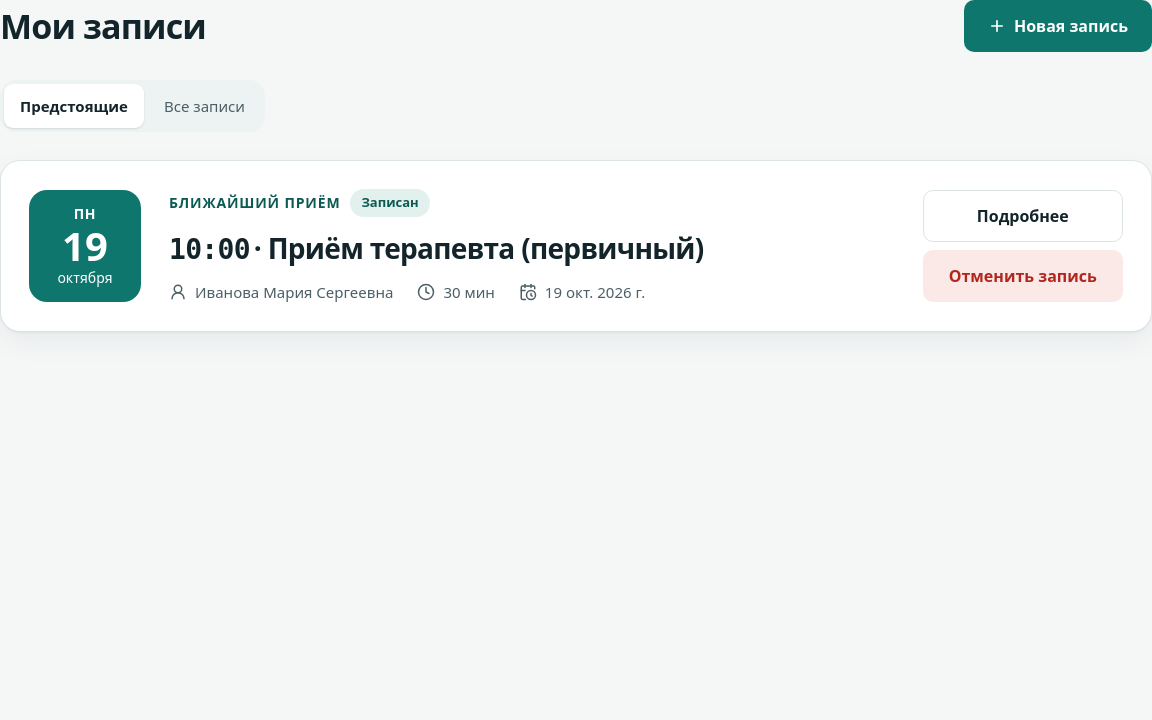
AppointmentList › should cancel with a reason, close the dialog, announce it and read the list again
This screenshot has width=1152, height=720.
Click the button with aria-label "Отменить запись:". click: (1023, 276)
box: [923, 250, 1123, 302]
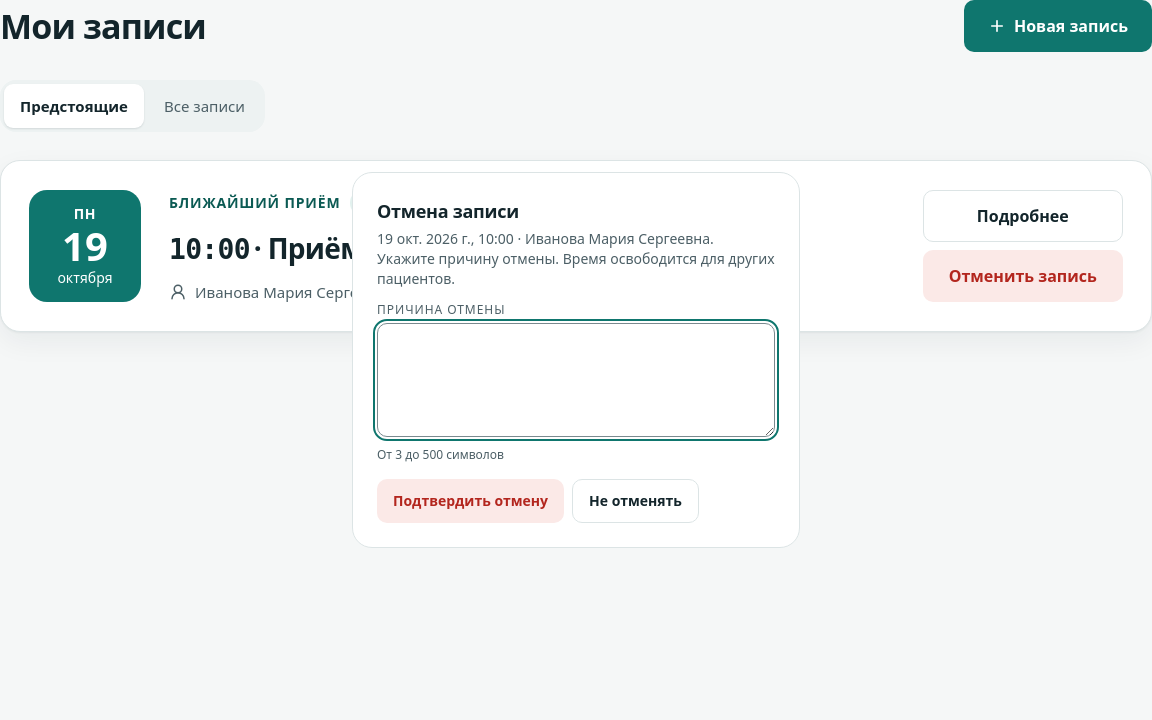
Type "Заболел" into the text box labelled "Причина отмены". click: (576, 380)
box: [377, 323, 775, 437]
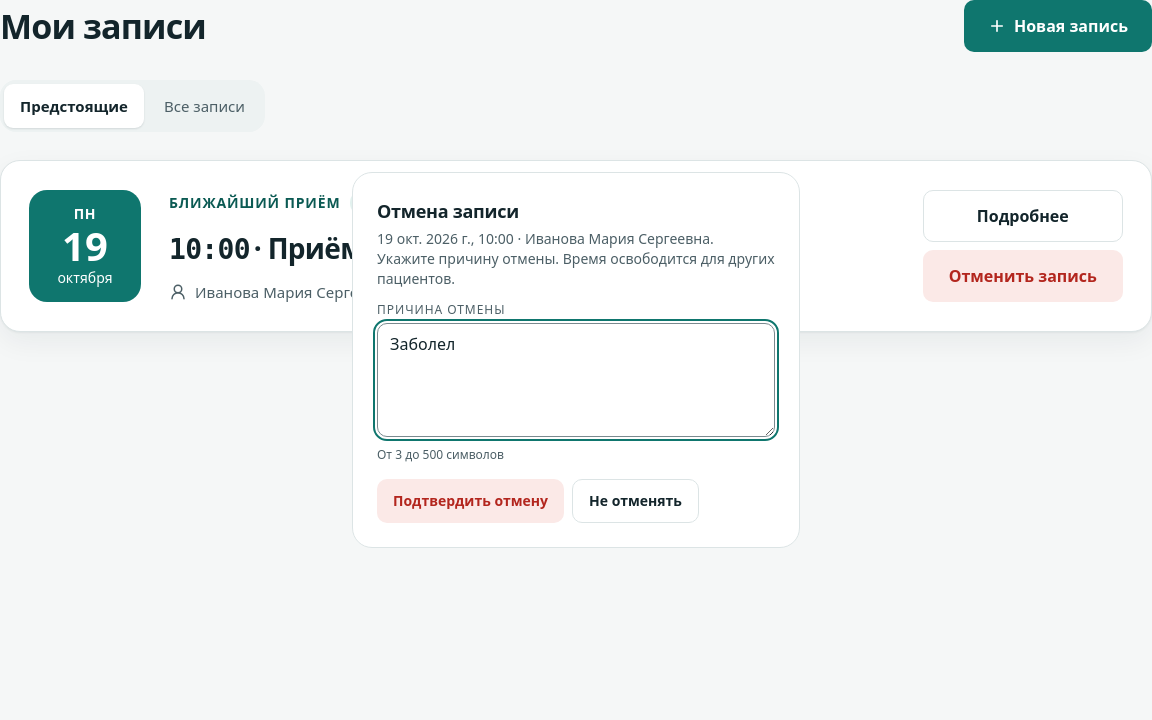
Click the button "Подтвердить отмену". click: (470, 501)
box: [377, 479, 564, 523]
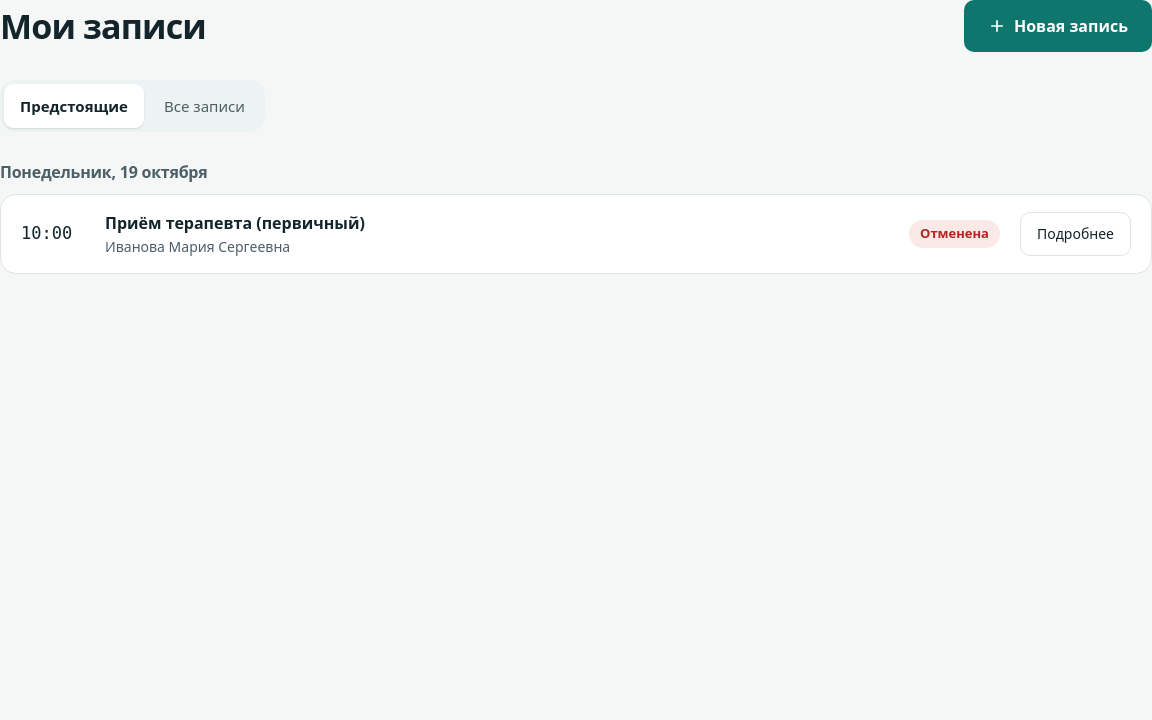
Result: the dialog is gone
Result: the text "Отменена" is shown at [909, 220, 1000, 248]
